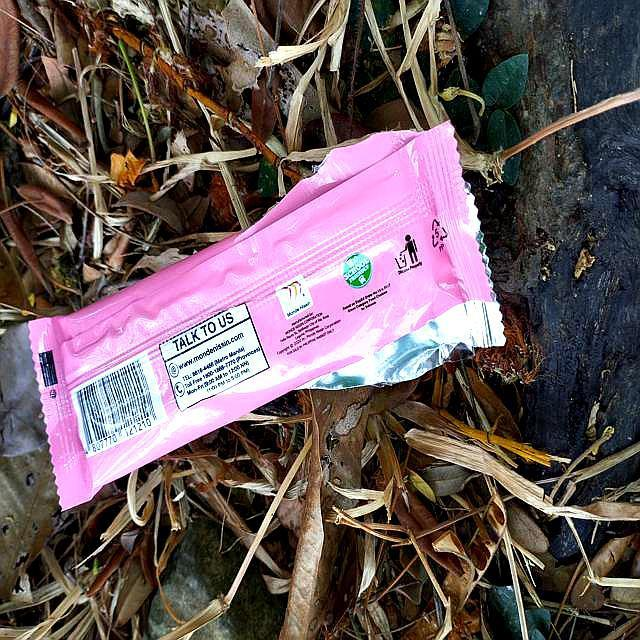Non-biodegradable: (25, 115, 515, 519)
